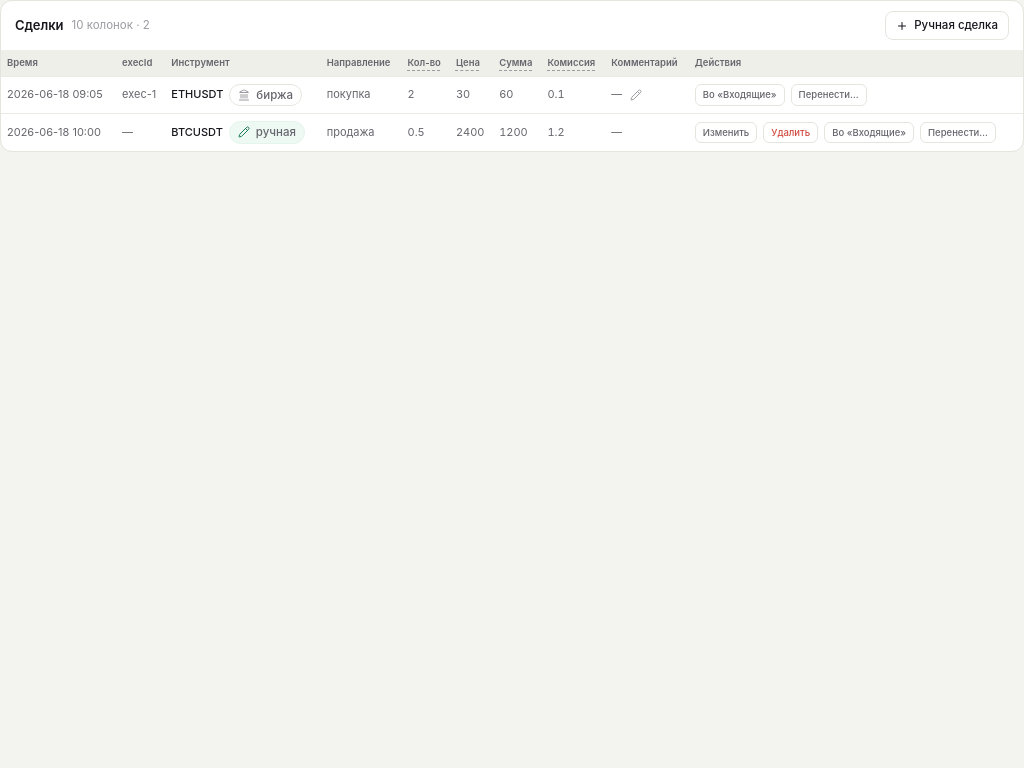
Test: таблица сделок карточки: ручные записи › отменяет удаление без вызова команды
Click the button "Удалить".
click(791, 132)  # box [763, 122, 818, 143]
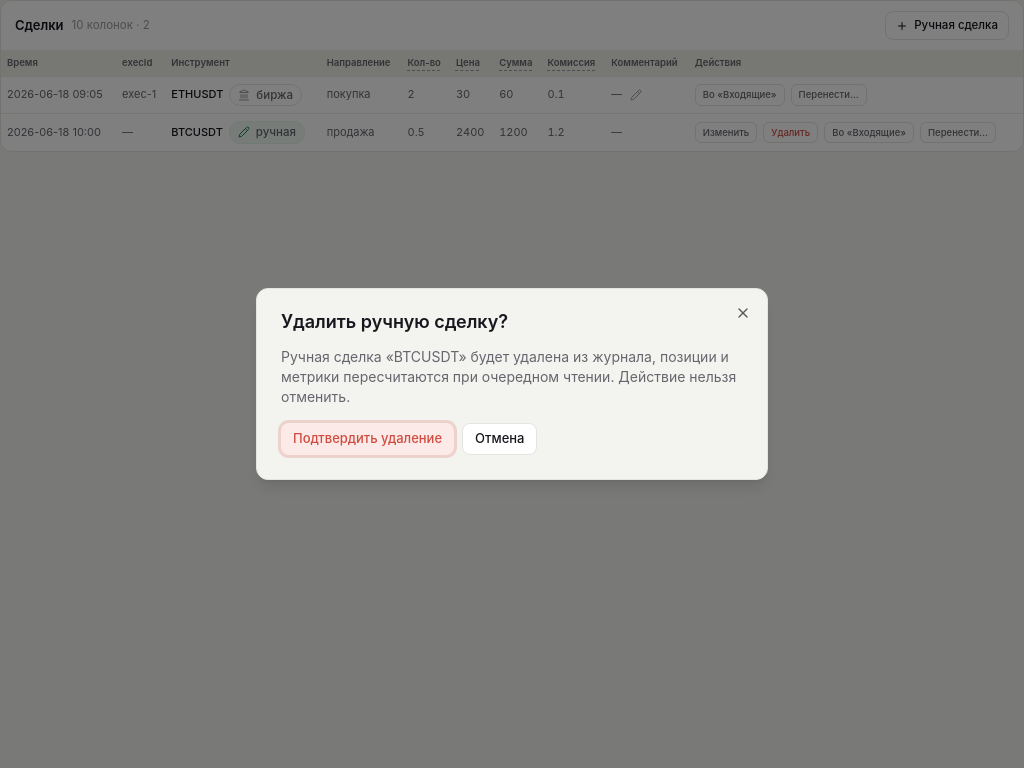
// отмена подтверждения.
Click the button "Отмена".
click(500, 439)  # box [462, 423, 538, 455]
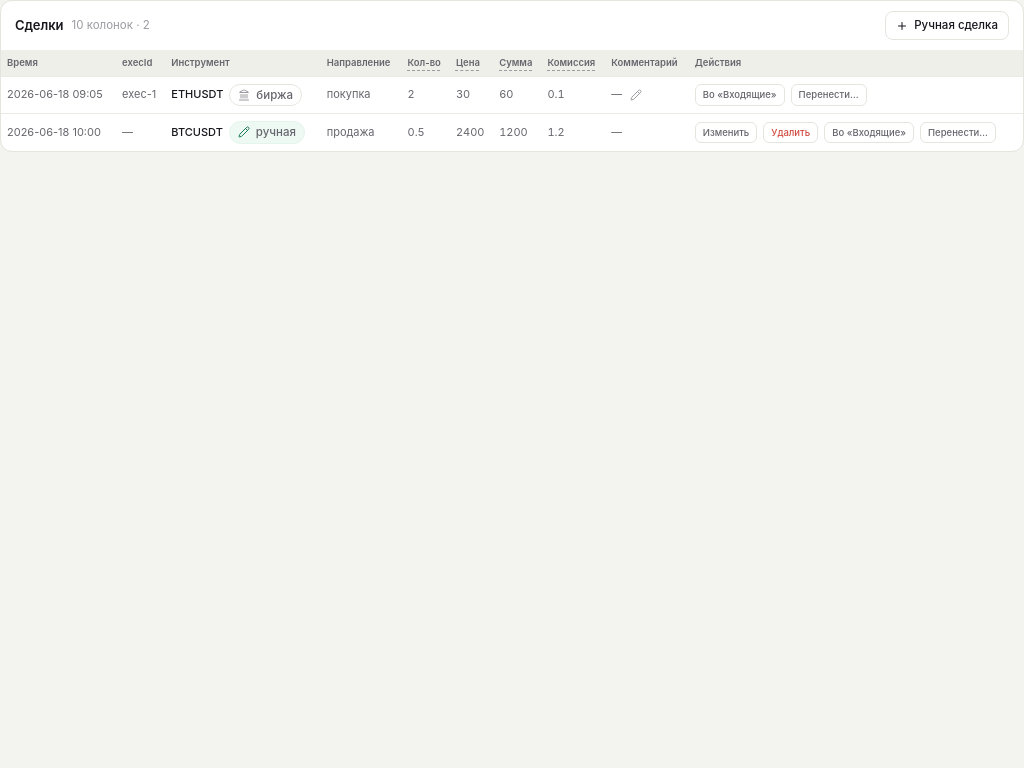
Result: the dialog is gone
